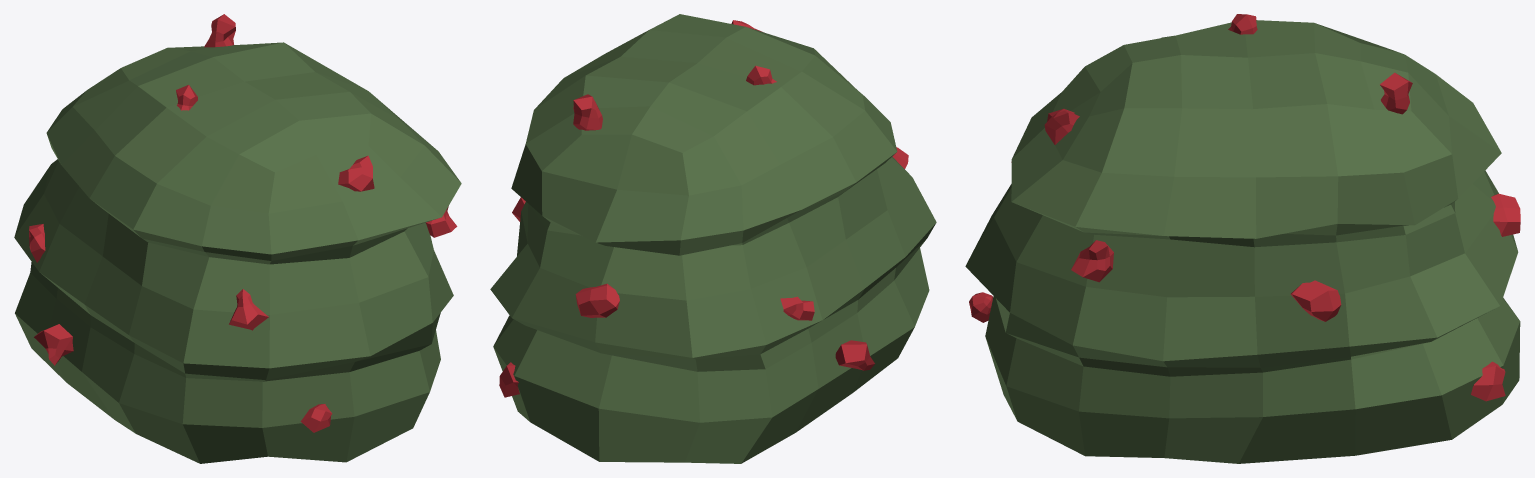
Rendered from BushBerries_1.glb.
The picture shows the model from 3 angles, left to right: view 1: azimuth 30°, elevation 25°; view 2: azimuth 150°, elevation 25°; view 3: azimuth 270°, elevation 25°; orthographic projection. The views are drawn at different scales.
Parts seen in each view (by area): view 1: BushBerries_1; view 2: BushBerries_1; view 3: BushBerries_1.
Part boxes in pixels (box(x1,y1,x2,y2)): BushBerries_1: box(14, 14, 461, 463); BushBerries_1: box(490, 14, 936, 463); BushBerries_1: box(965, 14, 1520, 463).
Size of the model in its own units: 1.39 by 1.28 by 1.72.
